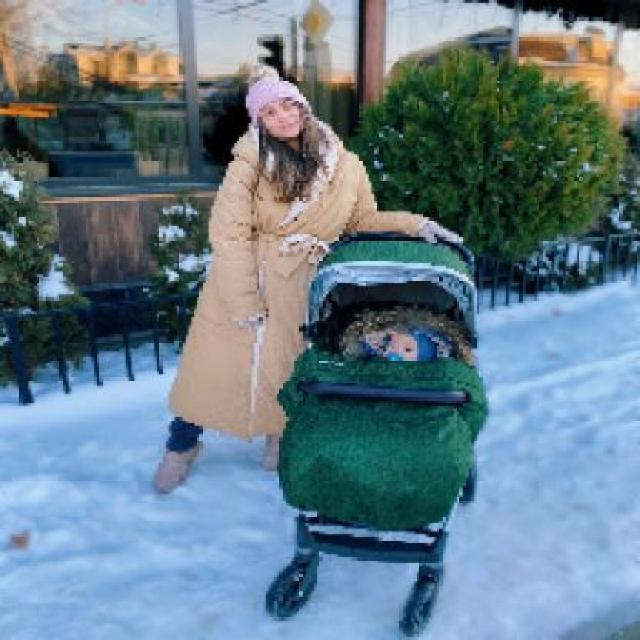child: (338, 306, 472, 366)
